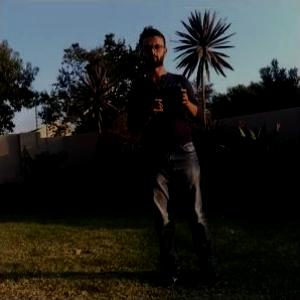follow: (121, 22, 225, 293)
